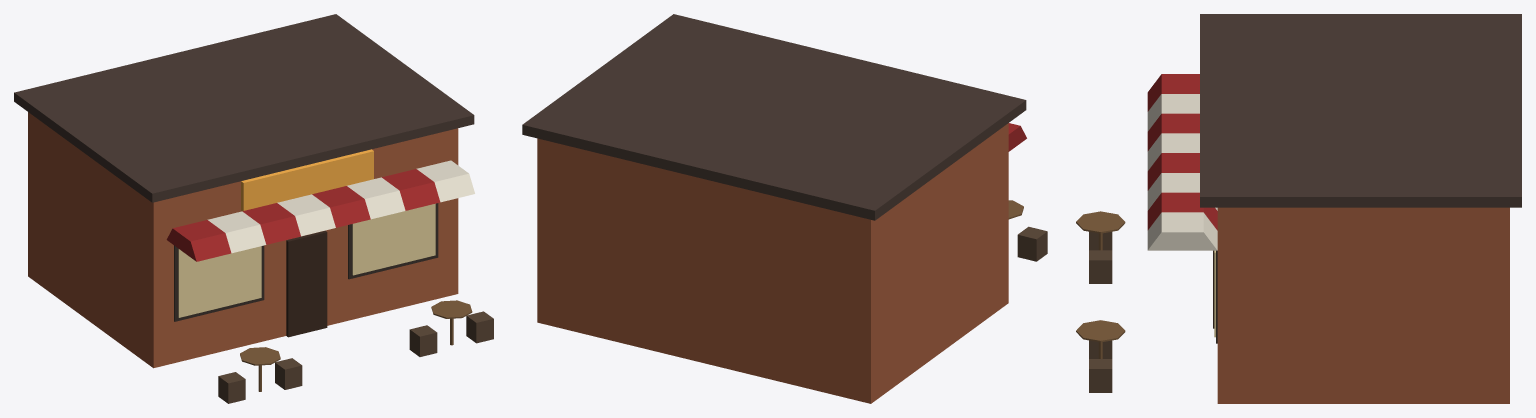
Rendered from bar.obj.
3 views of the same model, side by side, from view 1: azimuth 30°, elevation 25°; view 2: azimuth 150°, elevation 25°; view 3: azimuth 270°, elevation 25° (orthographic). The views are drawn at different scales.
Parts seen in each view (by area): view 1: parte_01, parte_00, parte_03, parte_06, parte_07, parte_05, parte_04, parte_09, parte_02, parte_08; view 2: parte_00, parte_01, parte_09; view 3: parte_01, parte_00, parte_07, parte_06, parte_09, parte_08.
Part boxes in pixels (<box>): parte_01: <box>14,14,474,202</box>; parte_00: <box>28,112,458,368</box>; parte_03: <box>178,203,435,317</box>; parte_06: <box>166,169,440,261</box>; parte_07: <box>207,160,474,253</box>; parte_05: <box>241,149,373,211</box>; parte_04: <box>286,230,327,337</box>; parte_09: <box>218,311,493,403</box>; parte_02: <box>174,203,438,321</box>; parte_08: <box>240,300,472,391</box>; parte_00: <box>537,123,1008,403</box>; parte_01: <box>522,14,1026,220</box>; parte_09: <box>1017,226,1047,261</box>; parte_01: <box>1200,14,1521,207</box>; parte_00: <box>1217,207,1509,403</box>; parte_07: <box>1147,94,1217,250</box>; parte_06: <box>1147,74,1217,230</box>; parte_09: <box>1089,231,1112,392</box>; parte_08: <box>1076,211,1125,358</box>.
Bounding box in the file's own units: 7.4 × 4 × 7.62.
